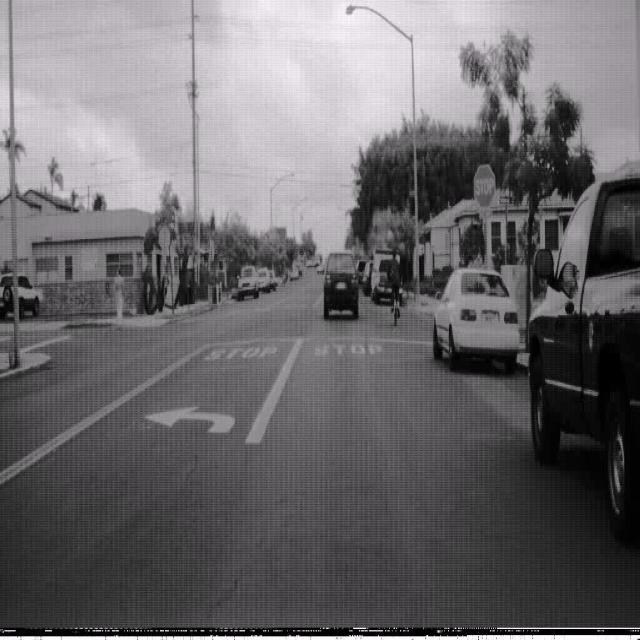stop_sign: (473, 163, 496, 207)
